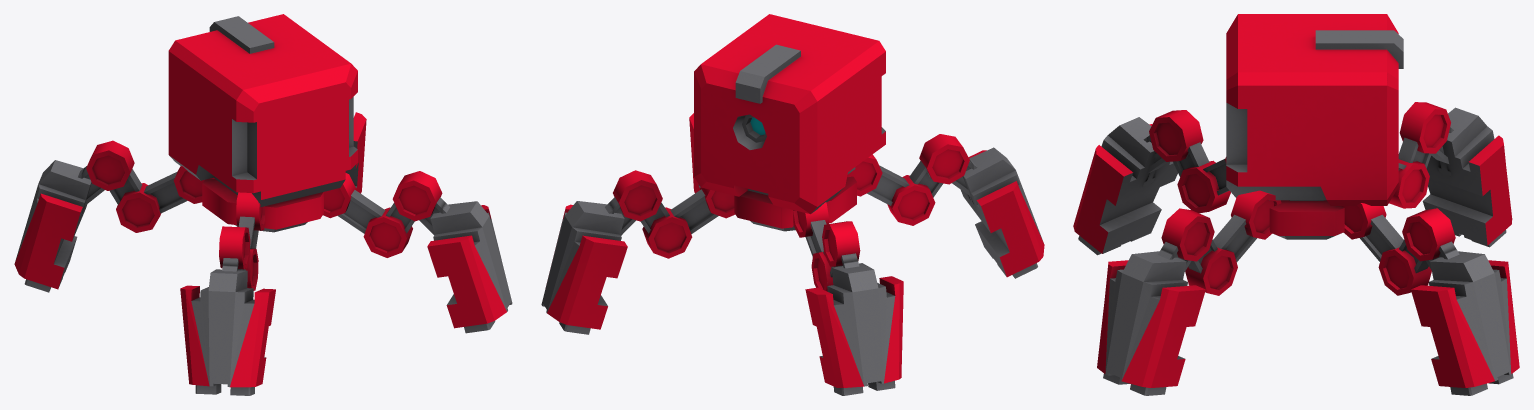
Rendered from Monster1_Attack2.obj.
3 views of the same model, side by side, from view 1: azimuth 30°, elevation 25°; view 2: azimuth 150°, elevation 25°; view 3: azimuth 270°, elevation 25° (orthographic). The views are drawn at different scales.
Parts seen in each view (by area): view 1: Box006, Object021, Object017, Object025, Object020, Object028, Object027, Object018, Object019, Object026, Object024, Object022 (+1 smaller); view 2: Box006, Object025, Object013, Object021, Object016, Object024, Object023, Object015, Object014, Object022, Object028, Object026 (+1 smaller); view 3: Box006, Object013, Object017, Object021, Object025, Object018, Object016, Object023, Object020, Object024, Object028, Object014 (+4 smaller).
Boxes of the visible parts, x1,y1,x2,y2 form: Box006: [168, 14, 357, 232]; Object021: [180, 269, 275, 395]; Object017: [427, 201, 512, 333]; Object025: [14, 160, 91, 292]; Object020: [392, 171, 449, 234]; Object028: [78, 140, 134, 205]; Object027: [109, 169, 161, 232]; Object018: [323, 173, 385, 233]; Object019: [363, 203, 414, 257]; Object026: [144, 166, 214, 213]; Object024: [219, 226, 250, 271]; Object022: [236, 192, 265, 249]; Box006: [694, 14, 885, 231]; Object025: [805, 263, 903, 395]; Object013: [541, 201, 627, 334]; Object021: [960, 147, 1044, 278]; Object016: [605, 170, 662, 235]; Object024: [919, 134, 977, 196]; Object023: [887, 161, 943, 225]; Object015: [640, 202, 692, 258]; Object014: [670, 187, 735, 233]; Object022: [847, 154, 909, 205]; Object028: [822, 221, 860, 268]; Object026: [793, 202, 829, 256]; Box006: [1226, 14, 1403, 239]; Object013: [1411, 251, 1519, 395]; Object017: [1097, 251, 1205, 395]; Object021: [1073, 117, 1177, 255]; Object025: [1422, 107, 1512, 247]; Object018: [1213, 190, 1281, 262]; Object016: [1402, 208, 1459, 269]; Object023: [1173, 142, 1230, 213]; Object020: [1158, 208, 1214, 271]; Object024: [1143, 110, 1203, 173]; Object028: [1399, 102, 1453, 163]; Object014: [1341, 203, 1403, 261].
Size of the model in its own units: 150 by 105 by 153.
